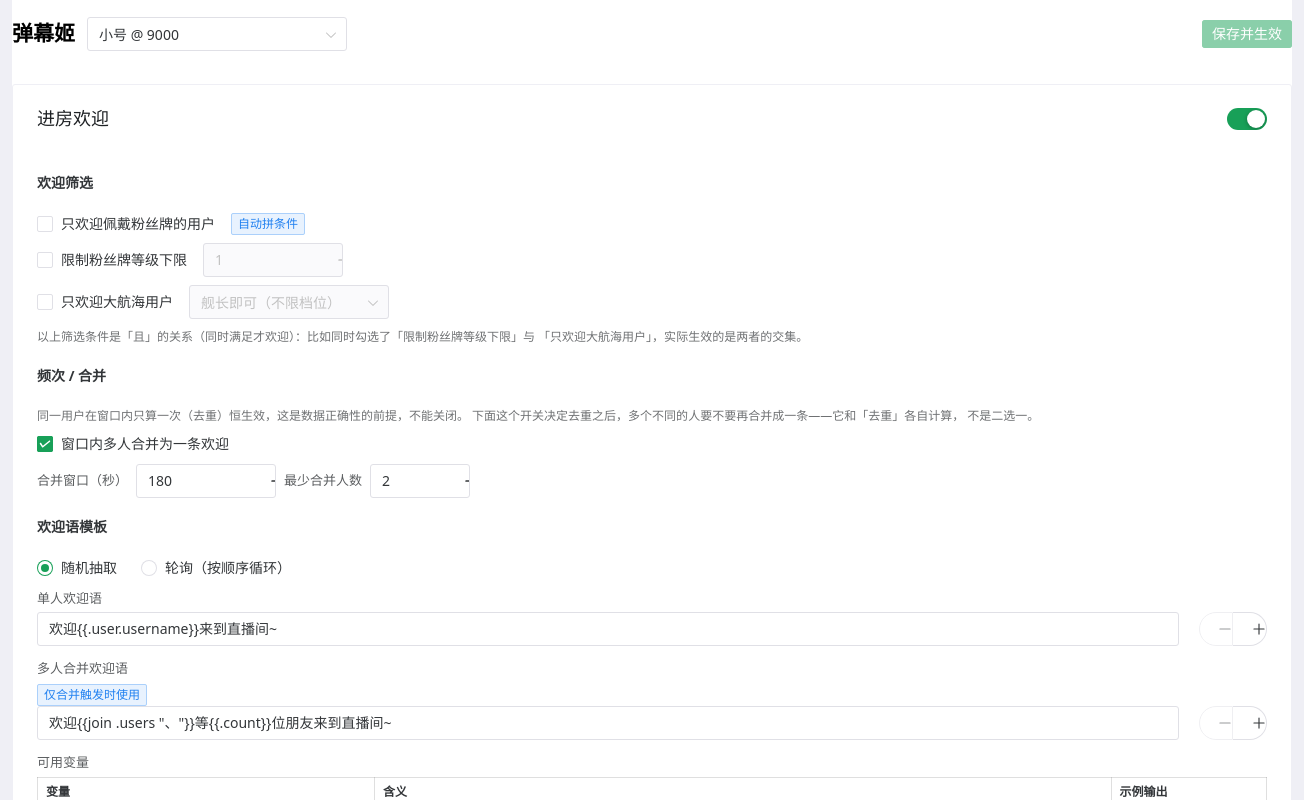
it: Danmaku 页面：dirty › 刚加载完成时 dirty 为假，保存按钮 disabled；改动草稿后 dirty 变真、按钮可点
Expected: the button "保存并生效" is disabled, [1202, 20, 1292, 48]
Replace the text in the 4th field with placeholder "单人欢迎语模板" with "改过的模板": (608, 629) [49, 612, 1167, 646]
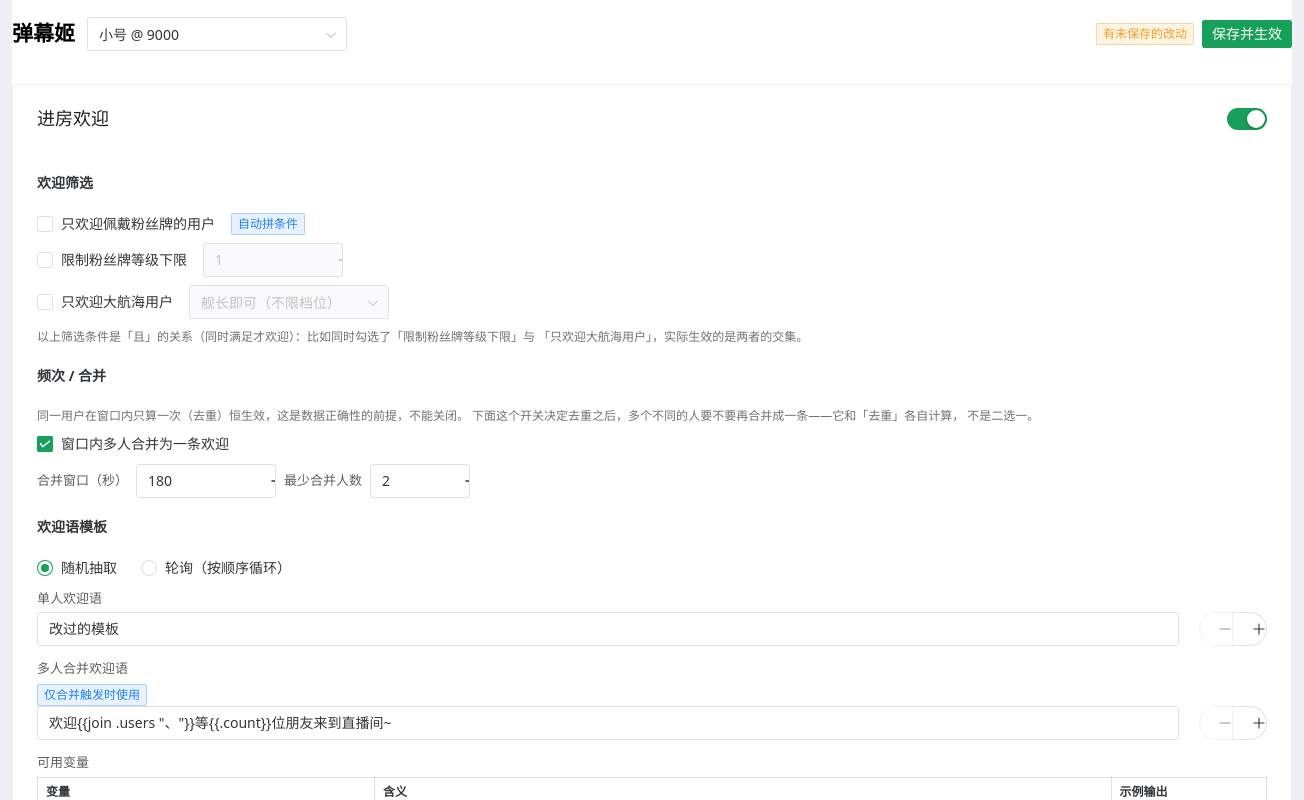
Expected: the text "有未保存的改动" is shown, [1103, 28, 1187, 40]
Expected: the button "保存并生效" is enabled, [1202, 20, 1292, 48]
